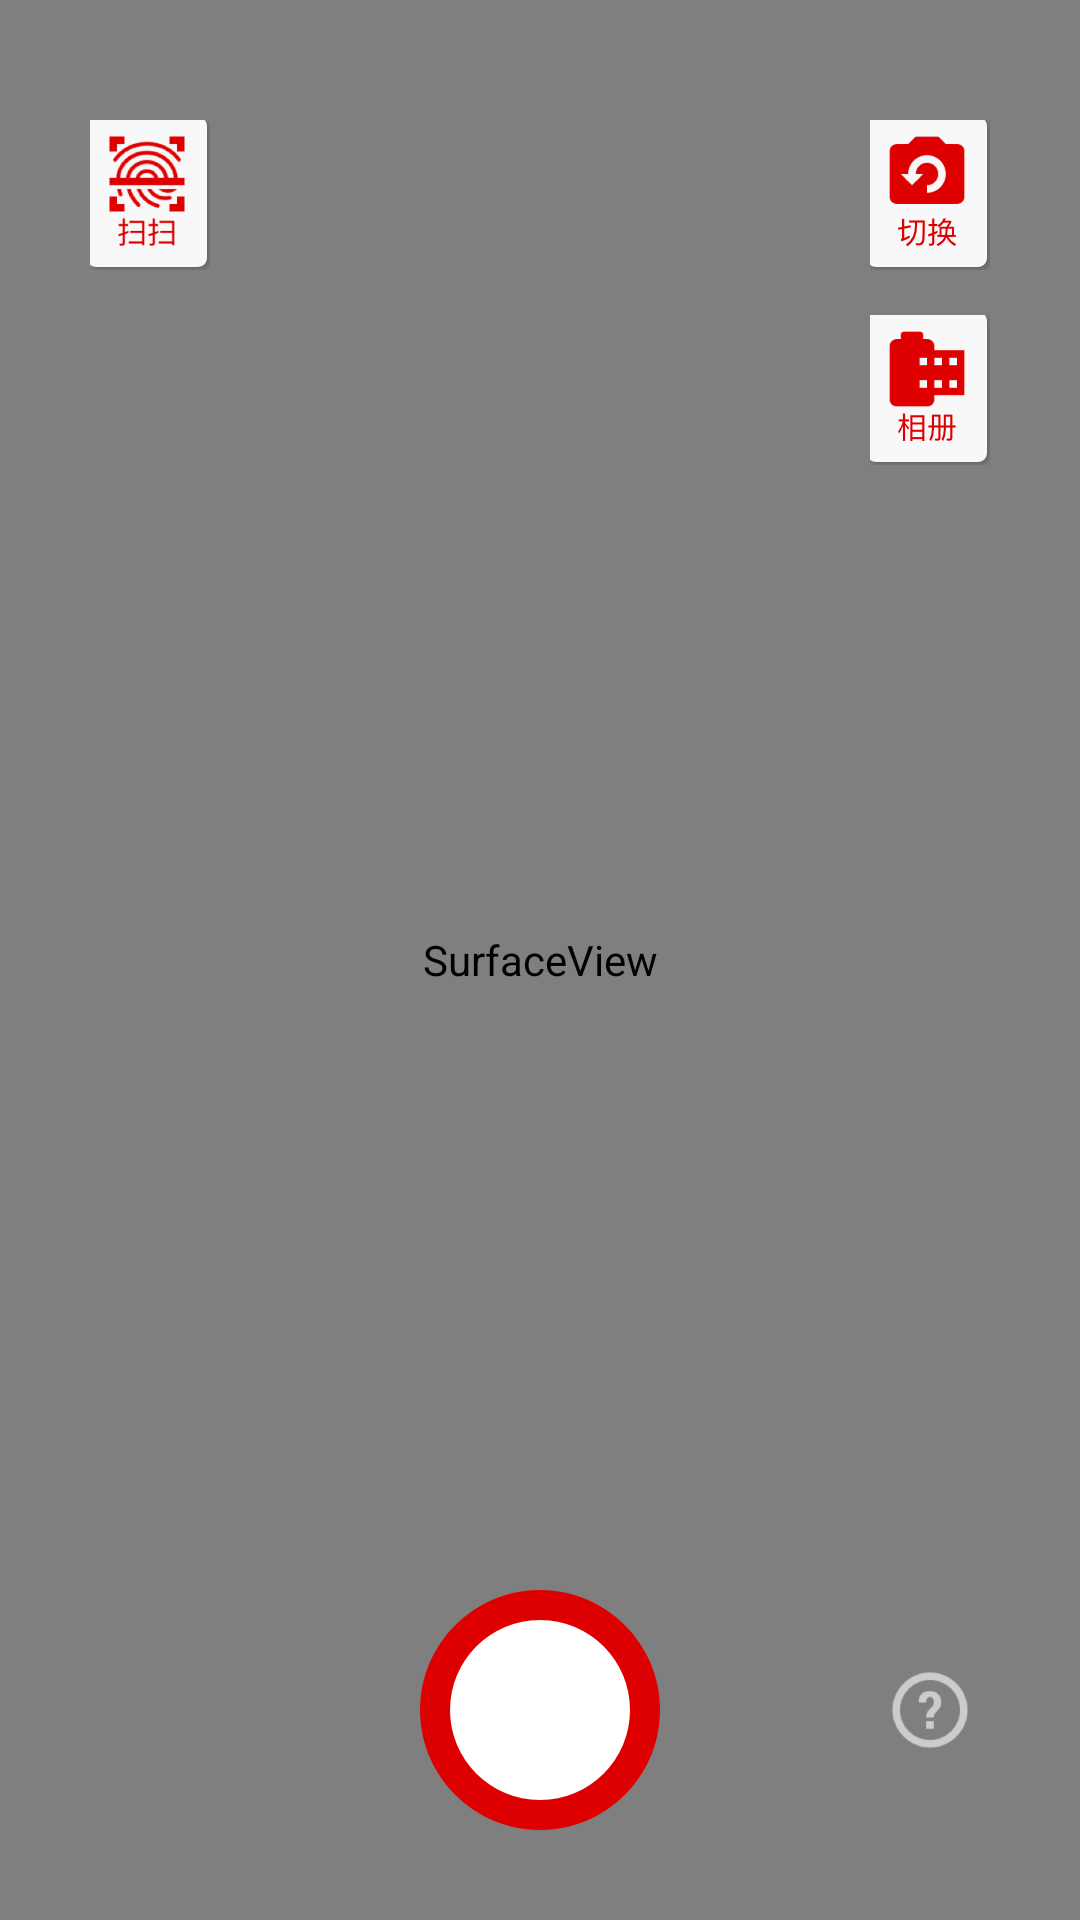

Where to tap for icons on this 1080 x 1920 app screen, as [x,y]:
help: [930,1710]
takephoto: [540,1710]
